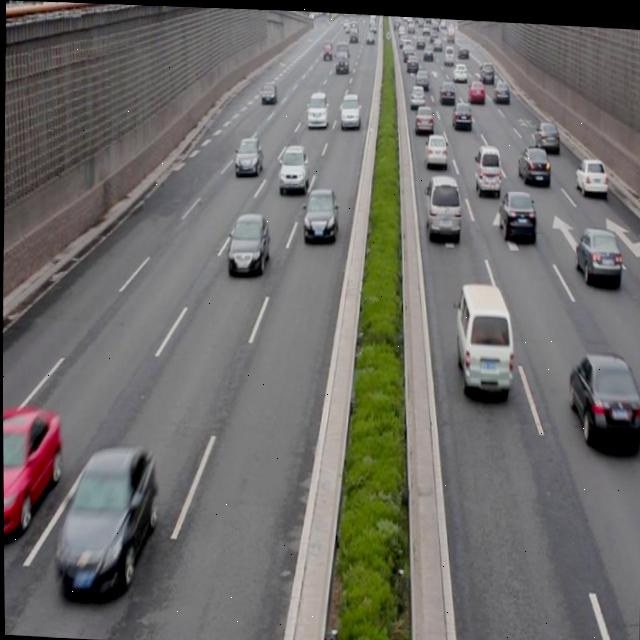car: (53, 439, 155, 601), (2, 405, 59, 542), (566, 345, 640, 446), (226, 208, 269, 276), (573, 221, 619, 280), (497, 182, 534, 240), (302, 184, 338, 243), (277, 140, 309, 191), (572, 150, 608, 193), (516, 139, 548, 184), (233, 134, 262, 175), (533, 114, 559, 150), (423, 127, 447, 163)
truck: (454, 277, 511, 391), (424, 169, 460, 236), (473, 138, 500, 193)
